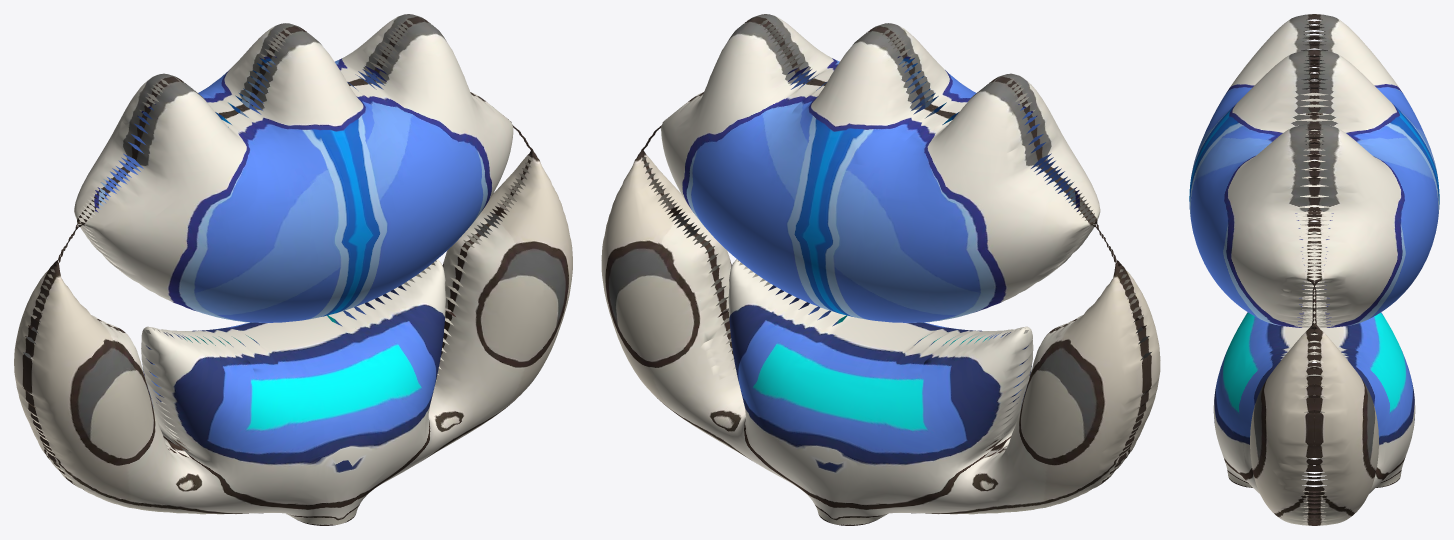
File: control_console.glb
3 views of the same model, side by side, from view 1: azimuth 30°, elevation 25°; view 2: azimuth 150°, elevation 25°; view 3: azimuth 270°, elevation 25° (orthographic). The views are drawn at different scales.
Visible parts, largest first — view 1: control_console; view 2: control_console; view 3: control_console.
Boxes of the visible parts, <box> form: control_console: <box>14,14,572,525</box>; control_console: <box>601,14,1160,525</box>; control_console: <box>1189,14,1439,525</box>.
Size of the model in its own units: 0.9889 by 0.8171 by 0.4373.
Materials: 1 (1 with a texture image).
